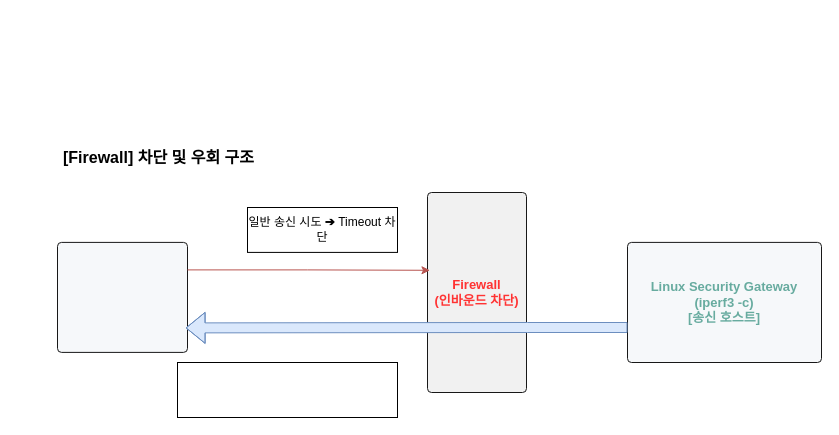
The diagram is 839 pixels wide and 435 high, and some of its shapes have lost their labels. The shapes that lost their labels are listed below. From the top down, each one's box as (x1, y1, x2, y2) in pixels, then its label:
(56, 241, 188, 352): Windows Client (iperf3 -s) [수신 대기]
(176, 362, 398, 418): 역방향 타격 (Reverse Role UDP) 아웃바운드 허용 경로 우회 / MAX 204Mbps 계측
